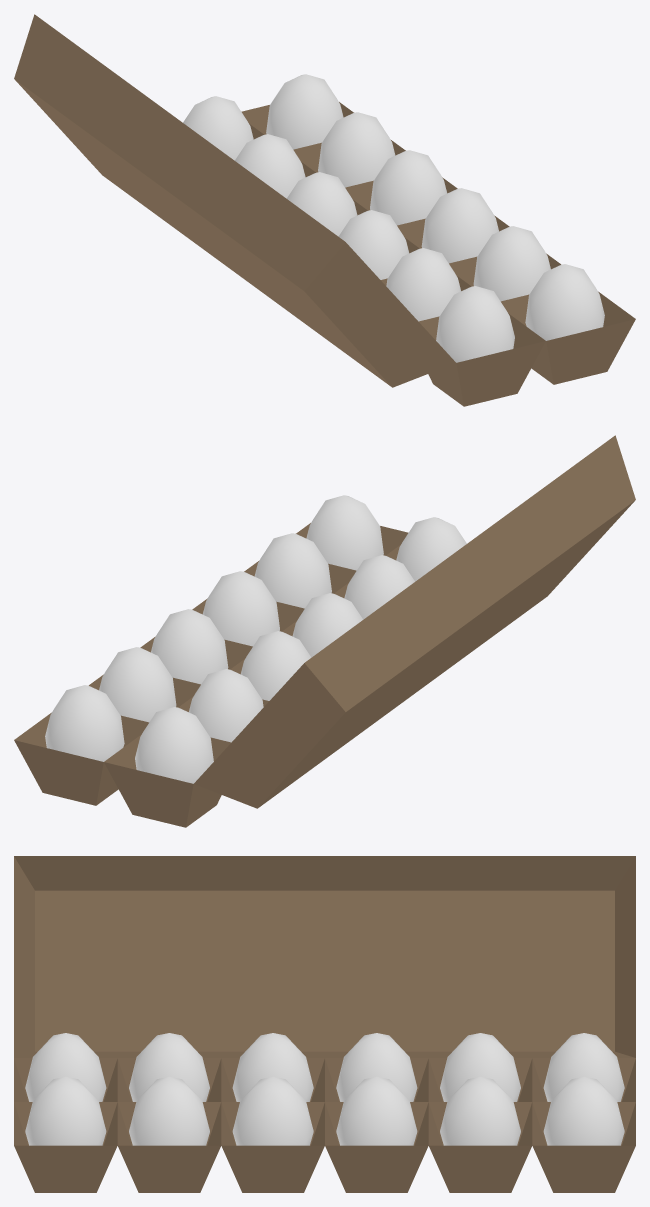
Rendered from gc_eggs.glb.
3 renders of one model, top to bottom at view 1: azimuth 30°, elevation 25°; view 2: azimuth 150°, elevation 25°; view 3: azimuth 270°, elevation 25°, orthographic.
Parts seen in each view (by area): view 1: eggs; view 2: eggs; view 3: eggs.
Part boxes in pixels (left/top/right/bottom): eggs: left=14, top=14, right=635, bottom=406; eggs: left=14, top=435, right=635, bottom=827; eggs: left=14, top=856, right=635, bottom=1192.
Bounding box in the file's own units: 0.7718 × 0.4683 × 1.29.
